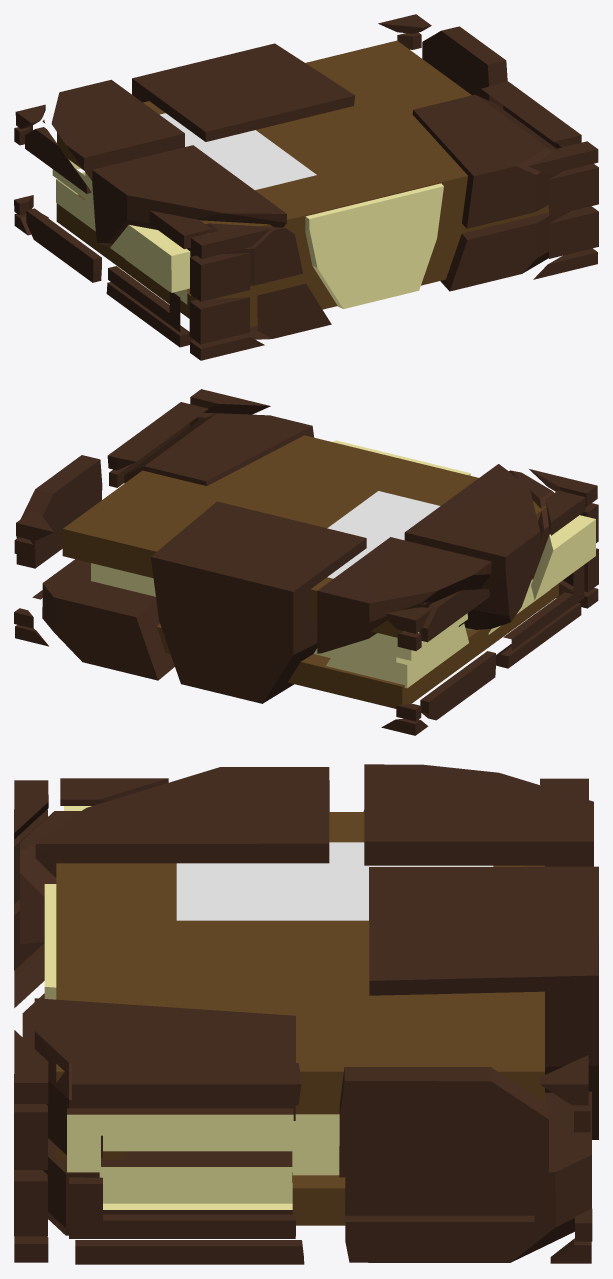
Rendered from bookShattered.glb.
3 renders of one model, top to bottom at view 1: azimuth 30°, elevation 25°; view 2: azimuth 150°, elevation 25°; view 3: azimuth 270°, elevation 25°, orthographic. The views are drawn at different scales.
Parts seen in each view (by area): view 1: Cube_cell, Cube; view 2: Cube_cell, Cube; view 3: Cube_cell, Cube.
Boxes of the visible parts, left/top/right/bottom form: Cube_cell: left=14, top=14, right=598, bottom=360; Cube: left=56, top=40, right=548, bottom=327; Cube_cell: left=14, top=389, right=598, bottom=735; Cube: left=62, top=435, right=558, bottom=708; Cube_cell: left=14, top=764, right=598, bottom=1264; Cube: left=56, top=812, right=544, bottom=1225.
Size of the model in its own units: 2.08 by 0.6082 by 1.59.
1 material, 1 textured.
